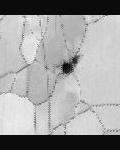good_void: (59, 51, 80, 75), (42, 63, 48, 71)
